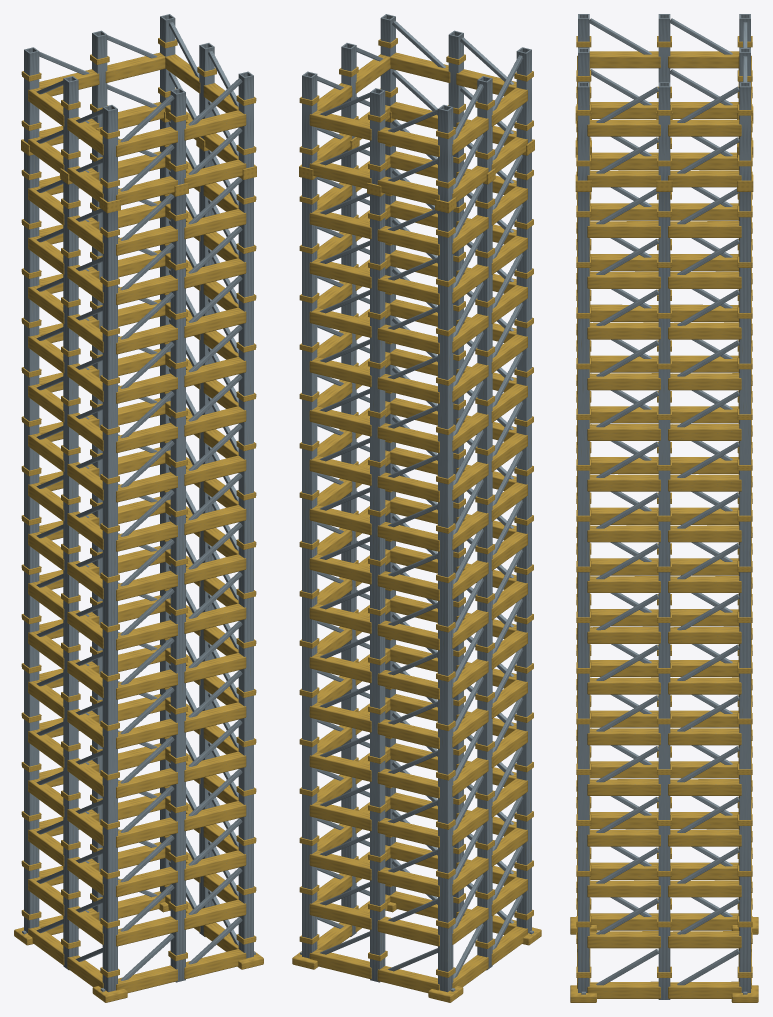
3 renders of one model, left to right at view 1: azimuth 30°, elevation 25°; view 2: azimuth 150°, elevation 25°; view 3: azimuth 270°, elevation 25°, orthographic. The views are drawn at different scales.
Parts seen in each view (by area): view 1: Tier 0 side 0 post 0, Tier 0 side 1 post 0, Tier 0 side 0 post 1, Tier 0 side 3 post 1, Tier 0 side 3 post 0, Tier 0 side 1 post 1, Tier 0 side 2 post 1, Tier 0 side 2 post 0, Tier 1 side 0 post 0, Tier 1 side 1 post 0, Tier 1 side 0 post 1, Tier 1 side 3 post 1 (+96 smaller); view 2: Tier 0 side 3 post 0, Tier 0 side 2 post 0, Tier 0 side 2 post 1, Tier 0 side 3 post 1, Tier 0 side 0 post 0, Tier 0 side 1 post 1, Tier 0 side 0 post 1, Tier 0 side 1 post 0, Tier 1 side 3 post 0, Tier 1 side 2 post 0, Tier 1 side 2 post 1, Tier 1 side 0 post 1 (+114 smaller); view 3: Tier 0 side 1 post 1, Tier 0 side 1 post 0, Tier 0 side 2 post 0, Tier 0 bay 1-1-1 service deck, Tier 0 bay 1-9-1 service deck, Tier 0 bay 1-2-1 service deck, Tier 0 bay 1-5-1 service deck, Tier 0 bay 1-1-0 service deck, Tier 0 bay 1-12-0 service deck, Tier 0 bay 1-12-1 service deck, Tier 0 bay 1-2-0 service deck, Tier 0 bay 1-5-0 service deck (+67 smaller).
Part boxes in pixels (left/top/right/bottom): Tier 0 side 0 post 0: left=102, top=210, right=117, bottom=992; Tier 0 side 1 post 0: left=238, top=177, right=253, bottom=958; Tier 0 side 0 post 1: left=170, top=194, right=185, bottom=982; Tier 0 side 3 post 1: left=63, top=181, right=78, bottom=970; Tier 0 side 3 post 0: left=24, top=152, right=39, bottom=933; Tier 0 side 1 post 1: left=199, top=148, right=214, bottom=936; Tier 0 side 2 post 1: left=92, top=148, right=102, bottom=920; Tier 0 side 2 post 0: left=160, top=119, right=170, bottom=894; Tier 1 side 0 post 0: left=102, top=105, right=117, bottom=201; Tier 1 side 1 post 0: left=238, top=71, right=253, bottom=168; Tier 1 side 0 post 1: left=170, top=88, right=185, bottom=184; Tier 1 side 3 post 1: left=63, top=76, right=78, bottom=171; Tier 0 side 3 post 0: left=438, top=210, right=453, bottom=992; Tier 0 side 2 post 0: left=302, top=177, right=317, bottom=958; Tier 0 side 2 post 1: left=370, top=193, right=385, bottom=982; Tier 0 side 3 post 1: left=477, top=181, right=492, bottom=970; Tier 0 side 0 post 0: left=516, top=152, right=531, bottom=933; Tier 0 side 1 post 1: left=341, top=150, right=356, bottom=936; Tier 0 side 0 post 1: left=453, top=148, right=463, bottom=918; Tier 0 side 1 post 0: left=385, top=121, right=395, bottom=895; Tier 1 side 3 post 0: left=438, top=105, right=453, bottom=201; Tier 1 side 2 post 0: left=302, top=71, right=317, bottom=168; Tier 1 side 2 post 1: left=370, top=88, right=385, bottom=184; Tier 1 side 0 post 1: left=448, top=30, right=463, bottom=127; Tier 0 side 1 post 1: left=658, top=192, right=670, bottom=999; Tier 0 side 1 post 0: left=578, top=192, right=589, bottom=992; Tier 0 side 2 post 0: left=739, top=192, right=750, bottom=992; Tier 0 bay 1-1-1 service deck: left=668, top=931, right=741, bottom=948; Tier 0 bay 1-9-1 service deck: left=668, top=525, right=741, bottom=542; Tier 0 bay 1-2-1 service deck: left=668, top=880, right=741, bottom=897; Tier 0 bay 1-5-1 service deck: left=668, top=728, right=741, bottom=745; Tier 0 bay 1-1-0 service deck: left=587, top=931, right=660, bottom=948; Tier 0 bay 1-12-0 service deck: left=587, top=373, right=660, bottom=390; Tier 0 bay 1-12-1 service deck: left=668, top=373, right=741, bottom=390; Tier 0 bay 1-2-0 service deck: left=587, top=880, right=660, bottom=897; Tier 0 bay 1-5-0 service deck: left=587, top=728, right=660, bottom=745.
Size of the model in its own units: 1.05 by 5.61 by 1.05.
Materials: 2 (2 with a texture image).
